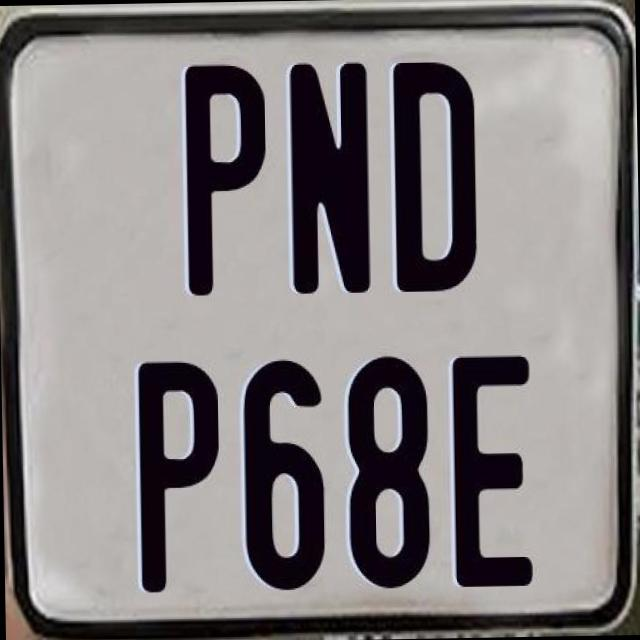6: (239, 357, 330, 588)
8: (344, 354, 430, 592)
D: (392, 60, 476, 293)
E: (448, 352, 538, 592)
N: (288, 61, 372, 302)
P: (138, 359, 228, 592), (182, 64, 266, 296)
